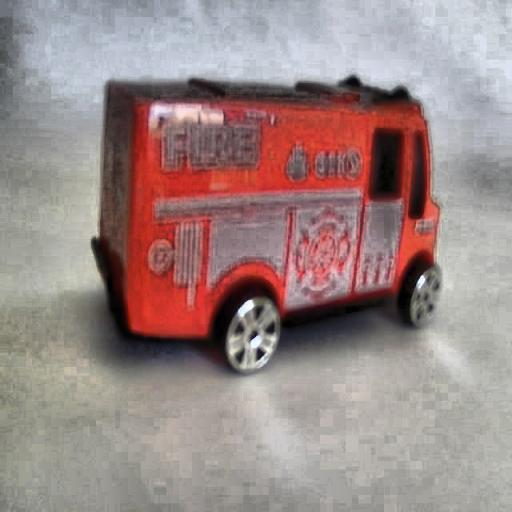fire_truck: (95, 80, 439, 366)
